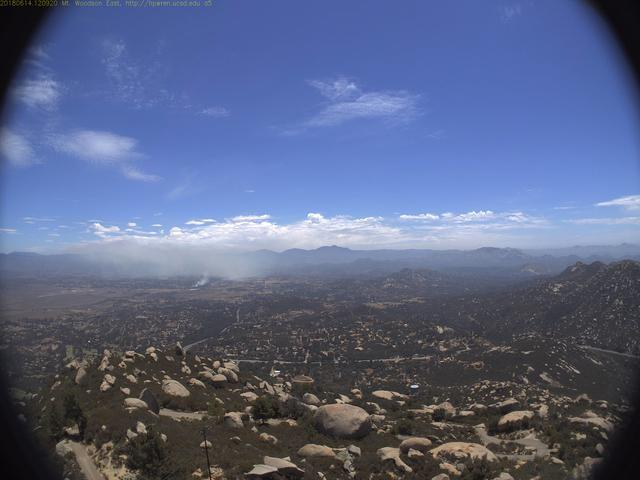smoke: (92, 238, 274, 286)
